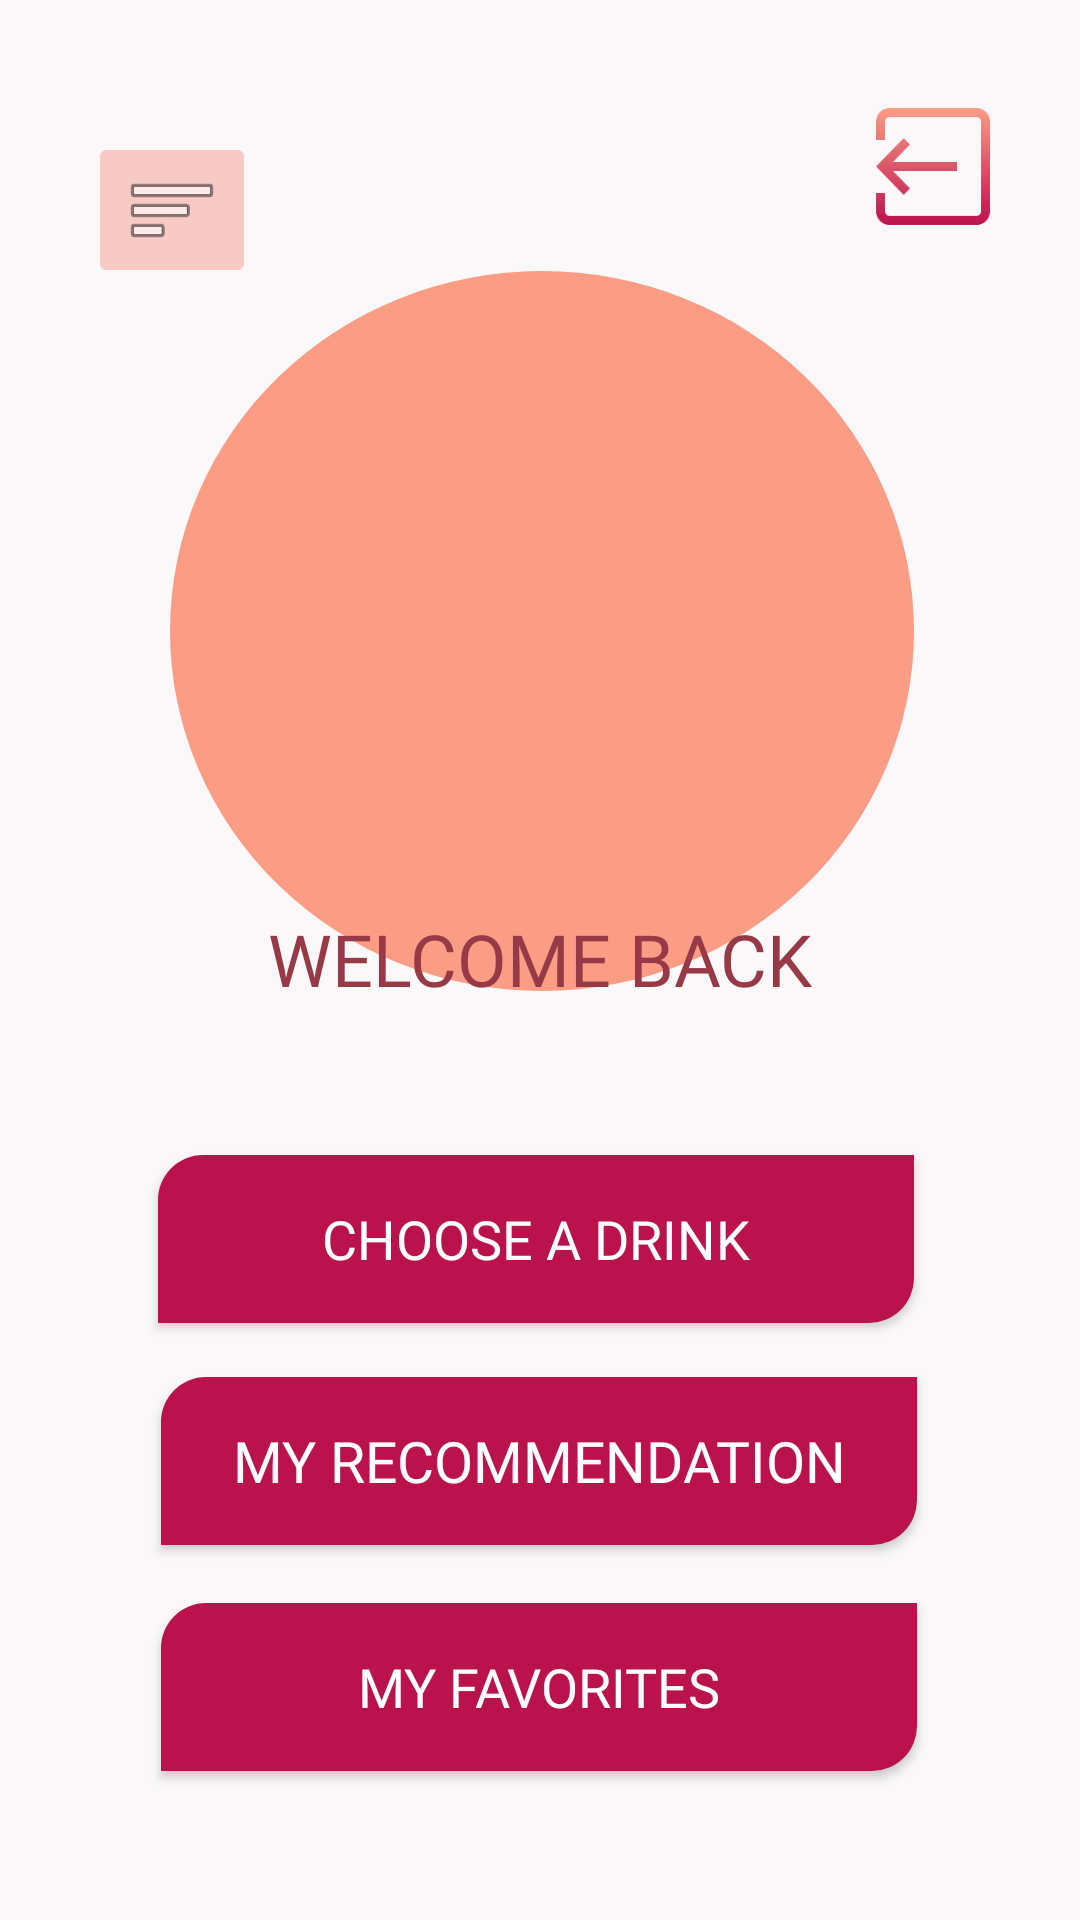

Where to tap for icons on this 1080 × 1920 app screen, as (x,y):
log out: (933,166)
menu: (172,210)
